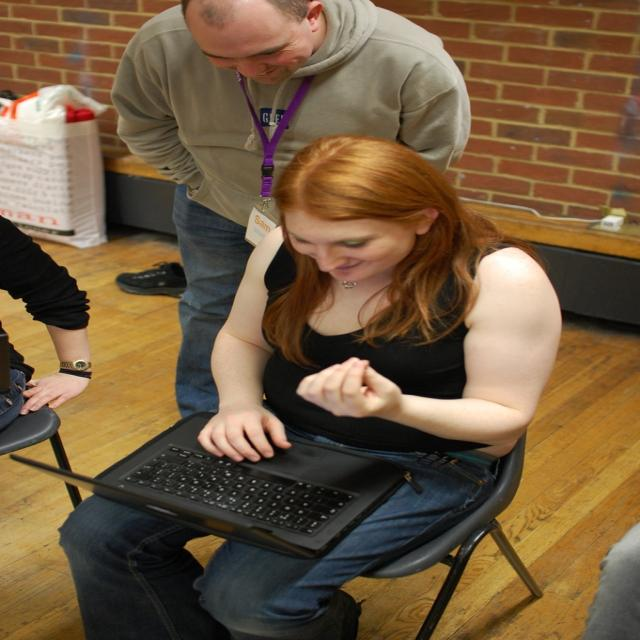Laptop: (100, 410, 396, 544)
